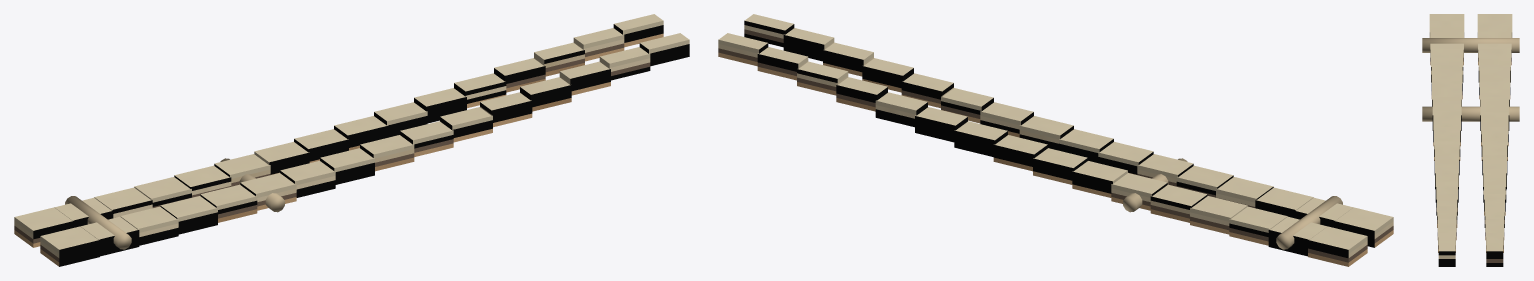
The model's file is FL_RecurveLimbs.fbx.
3 renders of one model, left to right at view 1: azimuth 30°, elevation 25°; view 2: azimuth 150°, elevation 25°; view 3: azimuth 270°, elevation 25°, orthographic. The views are drawn at different scales.
Visible parts, largest first — view 1: FL_RecurveLimbs; view 2: FL_RecurveLimbs; view 3: FL_RecurveLimbs.
Part boxes in pixels (x1,y1,x2,y2): FL_RecurveLimbs: [14, 14, 689, 266]; FL_RecurveLimbs: [718, 14, 1393, 266]; FL_RecurveLimbs: [1422, 14, 1519, 266].
Size of the model in its own units: 0.0518 by 0.00536 by 0.0075.
